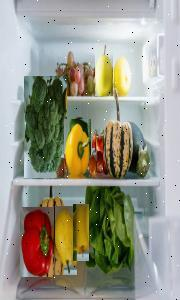Brocoli: (24, 76, 67, 178)
Lechuga/Endivia: (84, 183, 136, 279)
Limón: (113, 54, 133, 96)
Manzana: (96, 43, 114, 96), (73, 204, 89, 261)
Pera: (56, 206, 78, 275)
Pimiento: (21, 207, 55, 277), (64, 119, 91, 179)
Tomate: (90, 156, 98, 178), (96, 136, 104, 156), (92, 129, 100, 148), (97, 151, 103, 173)
